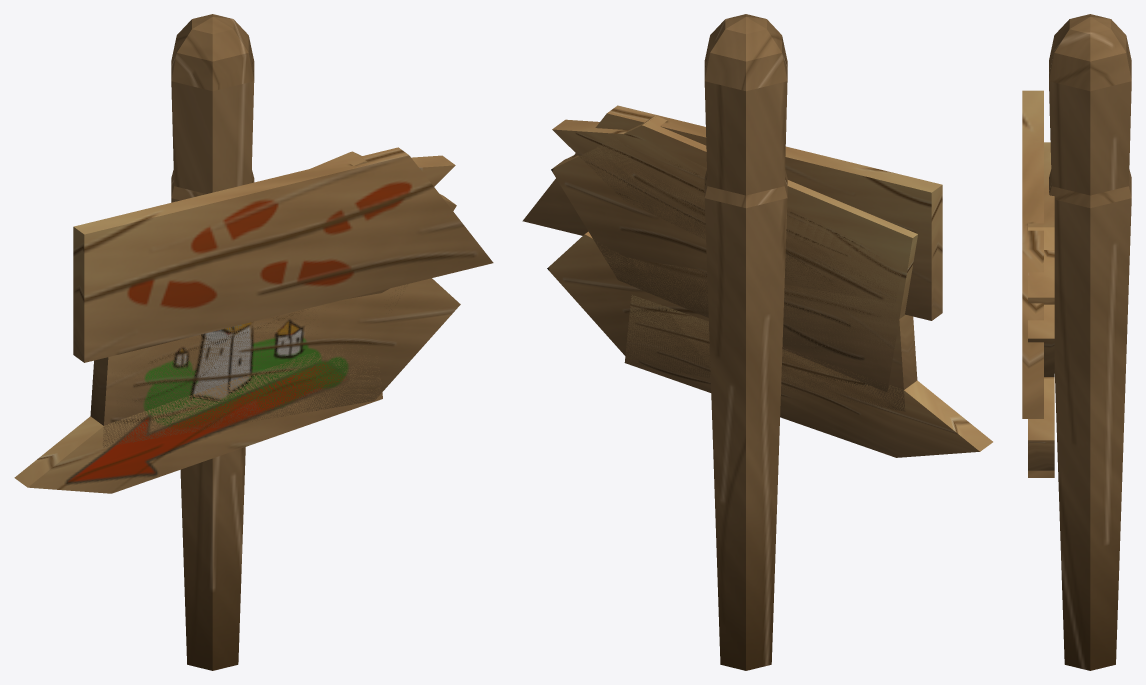
Rendered from Panels.fbx.
3 renders of one model, left to right at view 1: azimuth 30°, elevation 25°; view 2: azimuth 150°, elevation 25°; view 3: azimuth 270°, elevation 25°, orthographic.
Visible parts, largest first — view 1: Panel_Direction, Panel_Town, Panel_Multi_Direction, Panel_Castle; view 2: Panel_Multi_Direction, Panel_Castle, Panel_Direction, Panel_Town; view 3: Panel_Castle, Panel_Direction, Panel_Town, Panel_Multi_Direction.
Part boxes in pixels (<box>): Panel_Direction: <box>73,14,493,670</box>; Panel_Town: <box>90,151,460,447</box>; Panel_Multi_Direction: <box>14,155,455,670</box>; Panel_Castle: <box>109,152,456,670</box>; Panel_Multi_Direction: <box>552,119,992,670</box>; Panel_Castle: <box>551,116,917,670</box>; Panel_Direction: <box>522,14,942,670</box>; Panel_Town: <box>547,115,917,411</box>; Panel_Castle: <box>1028,142,1131,670</box>; Panel_Direction: <box>1022,14,1131,670</box>; Panel_Town: <box>1028,227,1054,470</box>; Panel_Multi_Direction: <box>1028,172,1131,477</box>.
Bounding box in the file's own units: 1.29 × 1.71 × 0.2645.
